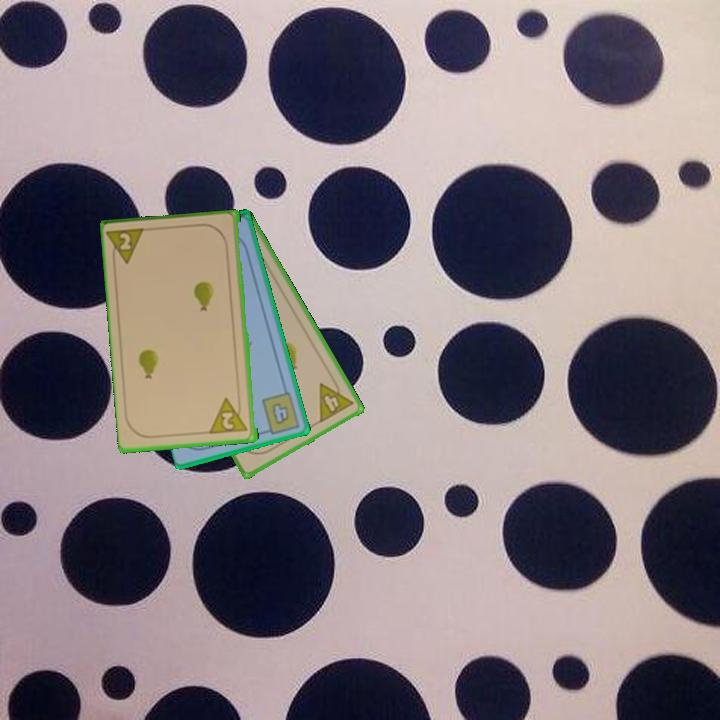2p: (105, 225, 150, 269), (208, 394, 251, 437)
4b: (258, 389, 303, 437)
4p: (316, 373, 357, 426)
